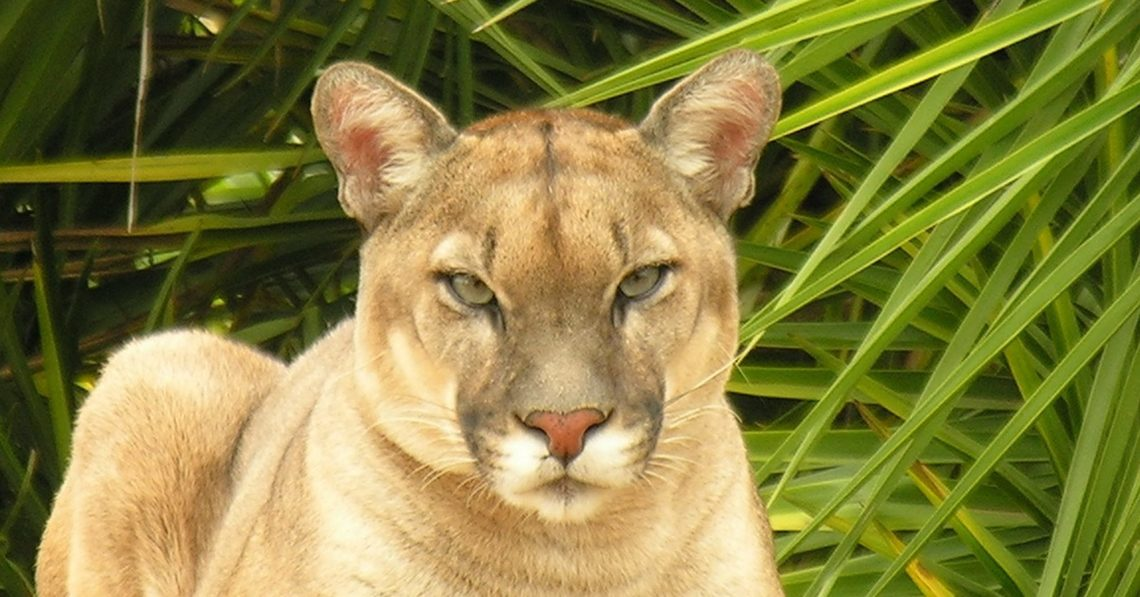OncaParda: (39, 36, 802, 592)
